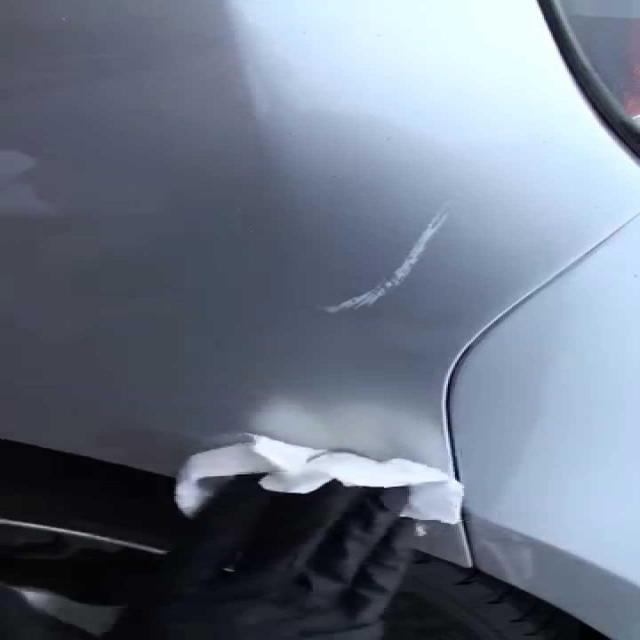scratch: (311, 194, 469, 320)
